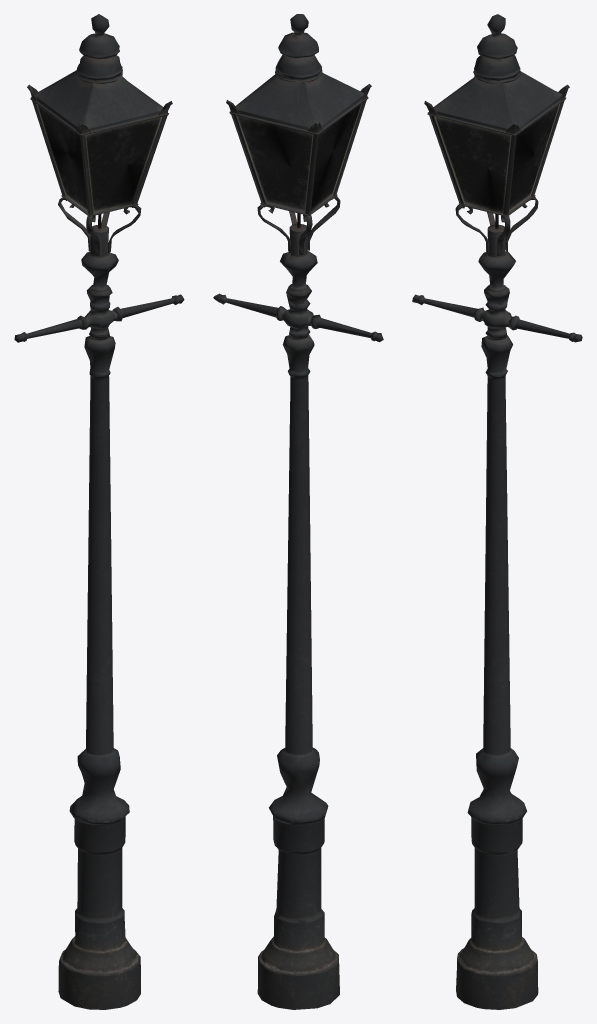
File: street_lamp_01.glb
3 views of the same model, side by side, from view 1: azimuth 30°, elevation 25°; view 2: azimuth 150°, elevation 25°; view 3: azimuth 330°, elevation 25° (orthographic).
Visible parts, largest first — view 1: street_lamp_01; view 2: street_lamp_01; view 3: street_lamp_01.
Boxes of the visible parts, box(x1,y1,x2,y2) form: street_lamp_01: box(14, 14, 184, 1009); street_lamp_01: box(213, 14, 383, 1009); street_lamp_01: box(412, 14, 582, 1009).
Size of the model in its own units: 0.7024 by 3.87 by 0.3865.
2 materials, 2 textured.
